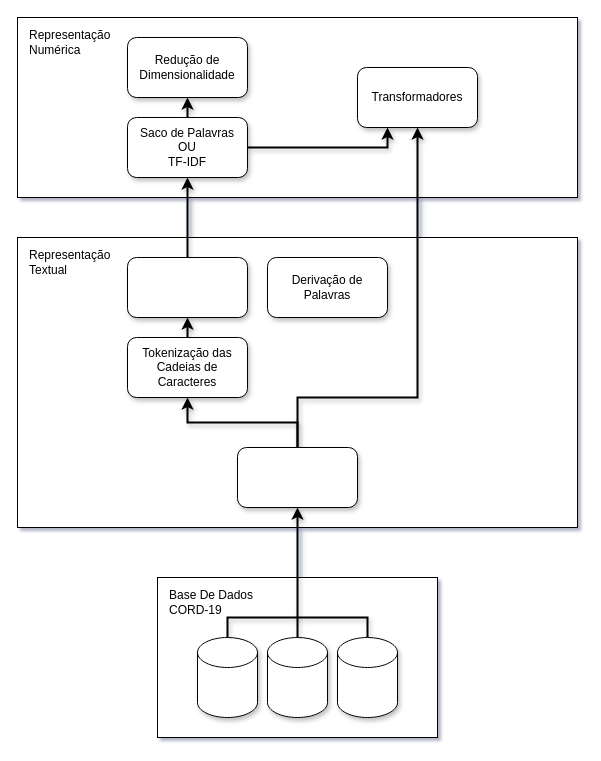
This 601x761 diagram has some shape labels left out. Here are the shapes that lost their labels. From the top down, the centre of each, then its label:
the point at 188,288: Remoção de Stop Words
the point at 298,478: Remoção de Artefatos e Formatação
